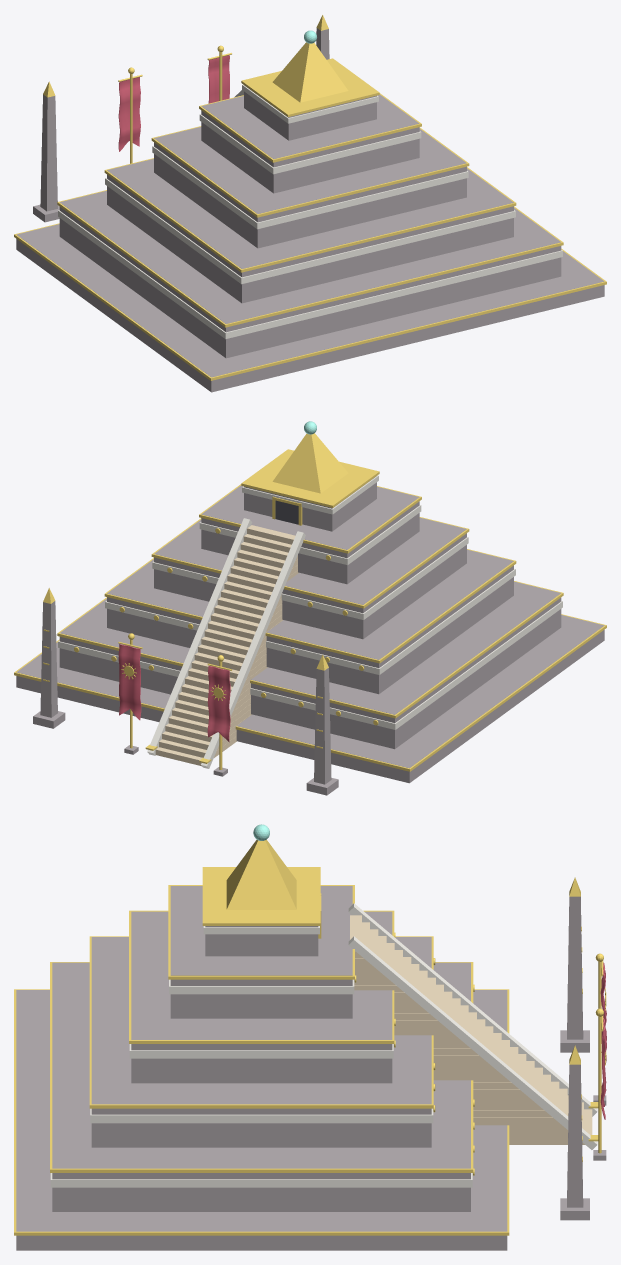
The model's file is SandTemple.glb.
The picture shows the model from 3 angles, top to bottom: view 1: azimuth 30°, elevation 25°; view 2: azimuth 150°, elevation 25°; view 3: azimuth 270°, elevation 25°; orthographic projection. The views are drawn at different scales.
Parts seen in each view (by area): view 1: Stone, Gold, Paint, Cloth; view 2: Stone, Gold, Paint, Steps, Cloth; view 3: Stone, Gold, Paint, Steps, Cloth.
Part boxes in pixels (<box>): Stone: <box>16,28,604,392</box>; Gold: <box>14,15,606,380</box>; Paint: <box>58,84,562,339</box>; Cloth: <box>118,55,229,151</box>; Stone: <box>16,476,604,795</box>; Gold: <box>14,433,606,771</box>; Paint: <box>58,475,562,768</box>; Steps: <box>155,525,298,766</box>; Cloth: <box>118,644,230,742</box>; Stone: <box>16,886,606,1250</box>; Gold: <box>14,839,606,1235</box>; Paint: <box>50,903,597,1187</box>; Steps: <box>350,915,592,1144</box>; Cloth: <box>600,962,606,1119</box>.
Bounding box in the file's own units: 151 × 88.58 × 155.
